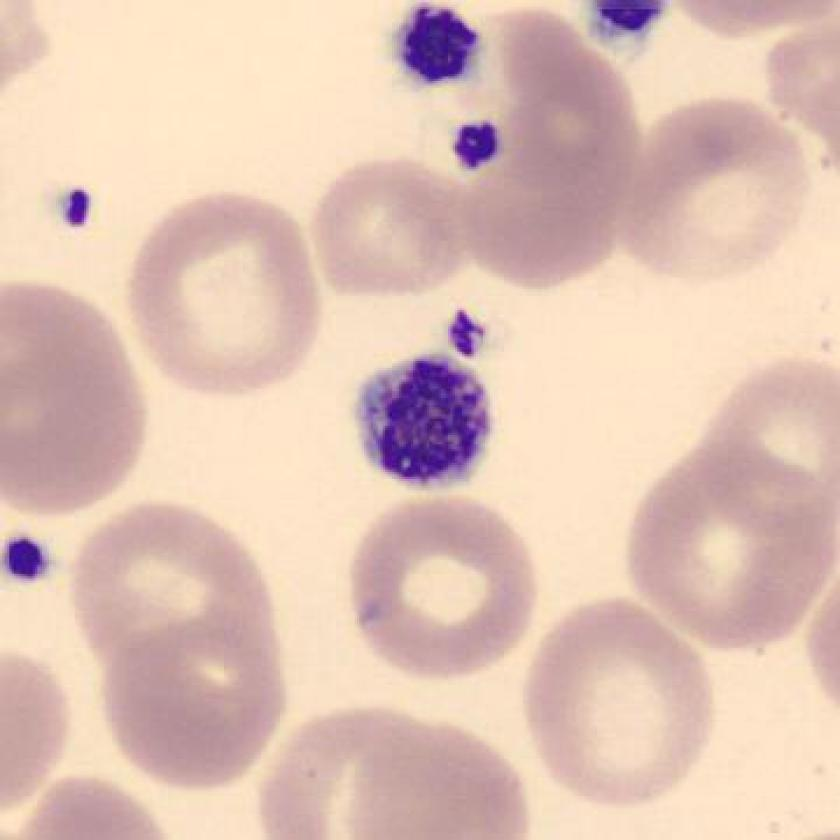platelets: (346, 343, 496, 501), (386, 1, 486, 91), (440, 299, 500, 369), (589, 1, 671, 50), (1, 522, 57, 593), (451, 114, 505, 177)
